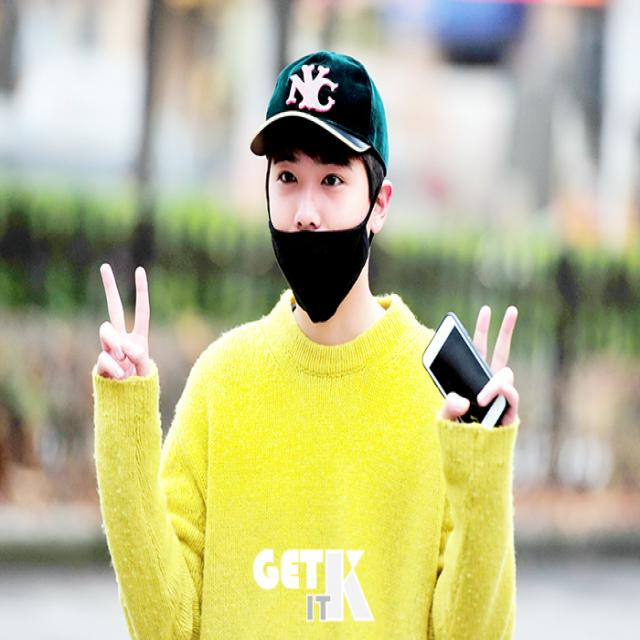mask: (267, 118, 371, 324)
